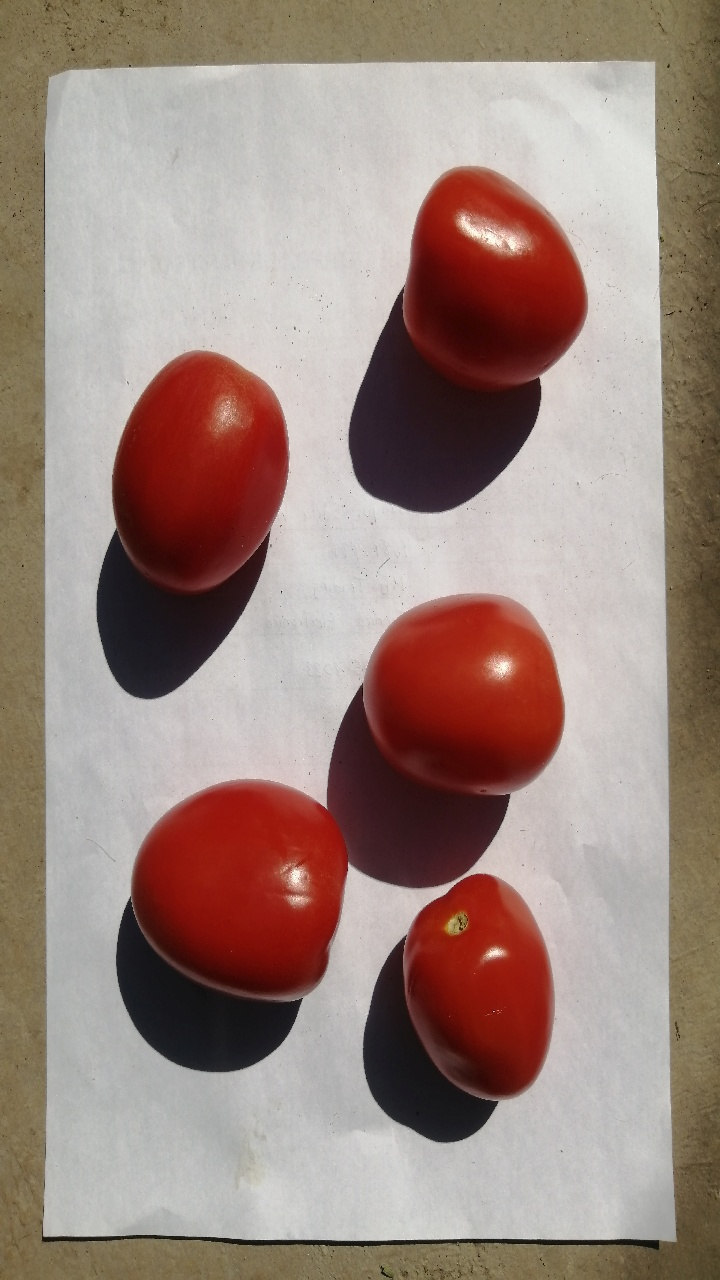tomateRojo: (101, 754, 358, 1037), (83, 325, 311, 615), (375, 137, 612, 403), (335, 580, 583, 825), (381, 848, 577, 1140)
